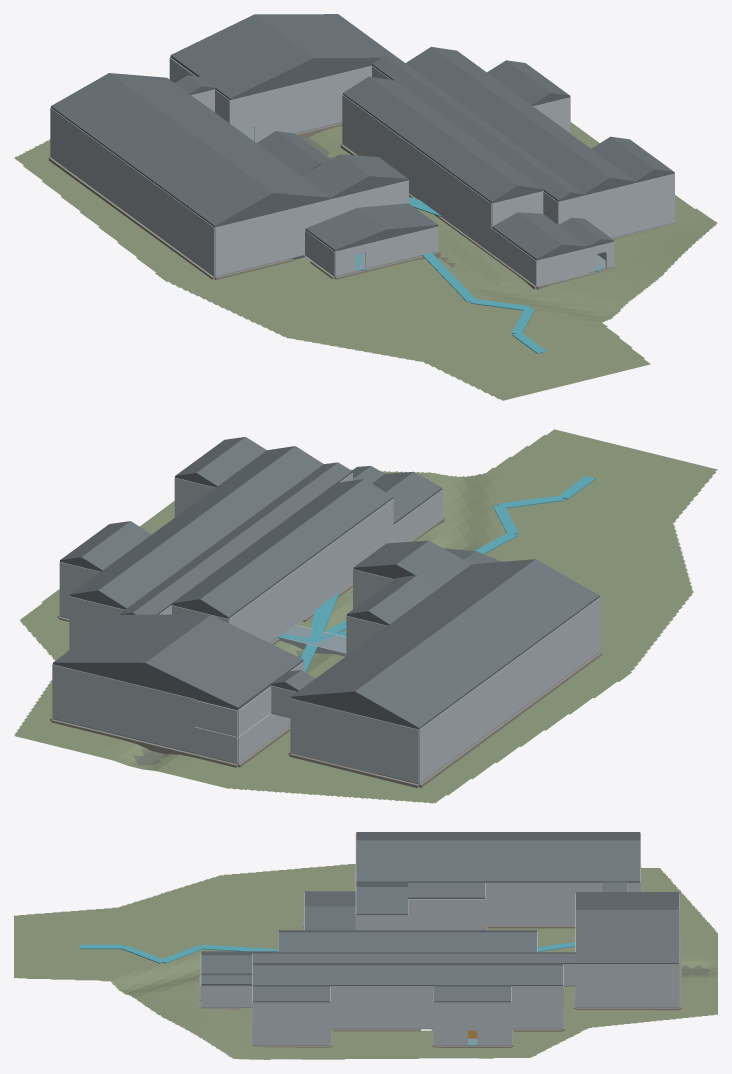
Rendered from authored-bays.glb.
The picture shows the model from 3 angles, top to bottom: view 1: azimuth 30°, elevation 25°; view 2: azimuth 150°, elevation 25°; view 3: azimuth 270°, elevation 25°; orthographic projection. The views are drawn at different scales.
Parts seen in each view (by area): view 1: Saved editor macroterrain COLLEGE, teaching-and-lecture roof west, east-residence-and-service roof west, teaching-and-lecture roof east, library roof west, west-residence roof west, Wall lecture S, library roof east, Wall lecture W, east-residence-and-service roof east, residence-spine roof west, west-residence roof east (+40 smaller); view 2: Saved editor macroterrain COLLEGE, teaching-and-lecture roof west, east-residence-and-service roof west, teaching-and-lecture roof east, library roof west, west-residence roof west, library roof east, Wall lecture W, east-residence-and-service roof east, residence-spine roof west, west-residence roof east, Wall project N (+45 smaller); view 3: Saved editor macroterrain COLLEGE, teaching-and-lecture roof east, east-residence-and-service roof east, library roof east, west-residence roof east, teaching-and-lecture roof west, residence-spine roof east, Flat route shell Wall upper-teaching E.001, Flat route shell Wall teaching-hall E, library roof west, Wall upper-reading E, Wall upper-north-stair E (+30 smaller).
Boxes of the visible parts, x1,y1,x2,y2 form: Saved editor macroterrain COLLEGE: (14, 122, 717, 400); teaching-and-lecture roof west: (51, 73, 272, 227); east-residence-and-service roof west: (405, 47, 609, 194); teaching-and-lecture roof east: (109, 73, 330, 198); library roof west: (170, 14, 313, 99); west-residence roof west: (343, 76, 517, 202); Wall lecture S: (215, 205, 305, 276); library roof east: (255, 14, 397, 59); Wall lecture W: (140, 173, 214, 276); east-residence-and-service roof east: (432, 47, 635, 182); residence-spine roof west: (424, 94, 571, 201); west-residence roof east: (369, 76, 543, 190); Saved editor macroterrain COLLEGE: (14, 429, 717, 803); teaching-and-lecture roof west: (355, 559, 599, 729); east-residence-and-service roof west: (98, 446, 323, 609); teaching-and-lecture roof east: (291, 559, 535, 698); library roof west: (145, 615, 303, 708); west-residence roof west: (200, 479, 392, 618); library roof east: (53, 614, 210, 664); Wall lecture W: (518, 597, 600, 710); east-residence-and-service roof east: (70, 446, 294, 595); residence-spine roof west: (190, 462, 352, 579); west-residence roof east: (171, 479, 363, 604); Wall project N: (319, 705, 418, 756); Saved editor macroterrain COLLEGE: (14, 864, 717, 1059); teaching-and-lecture roof east: (356, 840, 640, 882); east-residence-and-service roof east: (253, 965, 562, 986); library roof east: (576, 910, 679, 964); west-residence roof east: (278, 932, 536, 952); teaching-and-lecture roof west: (356, 832, 640, 840); residence-spine roof east: (253, 953, 485, 962); Flat route shell Wall upper-teaching E.001: (486, 882, 601, 903); Flat route shell Wall teaching-hall E: (486, 904, 575, 924); library roof west: (576, 892, 679, 909); Wall upper-reading E: (601, 964, 679, 985); Wall upper-north-stair E: (433, 1002, 511, 1023).
Bounding box in the file's own units: 73 × 13.6 × 109.
